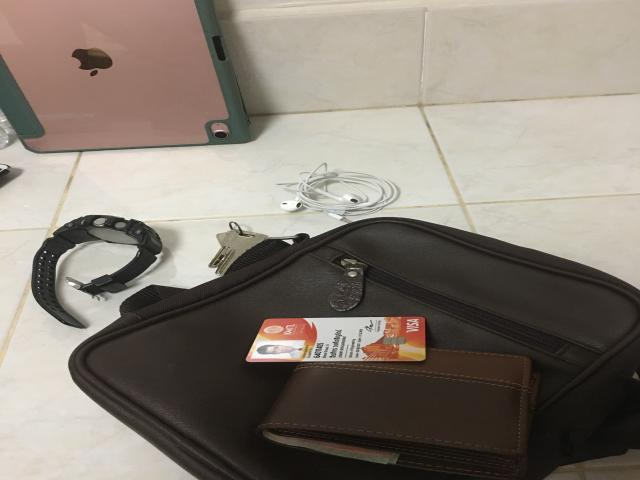Keys: (207, 221, 268, 275)
Wallet: (258, 338, 537, 480)
Watch: (30, 215, 164, 329)
wire: (276, 163, 402, 224)
